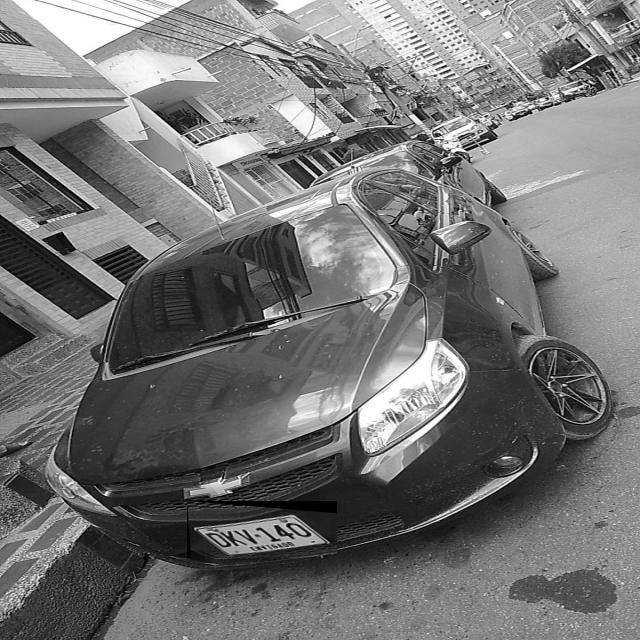plate: (189, 508, 337, 558)
